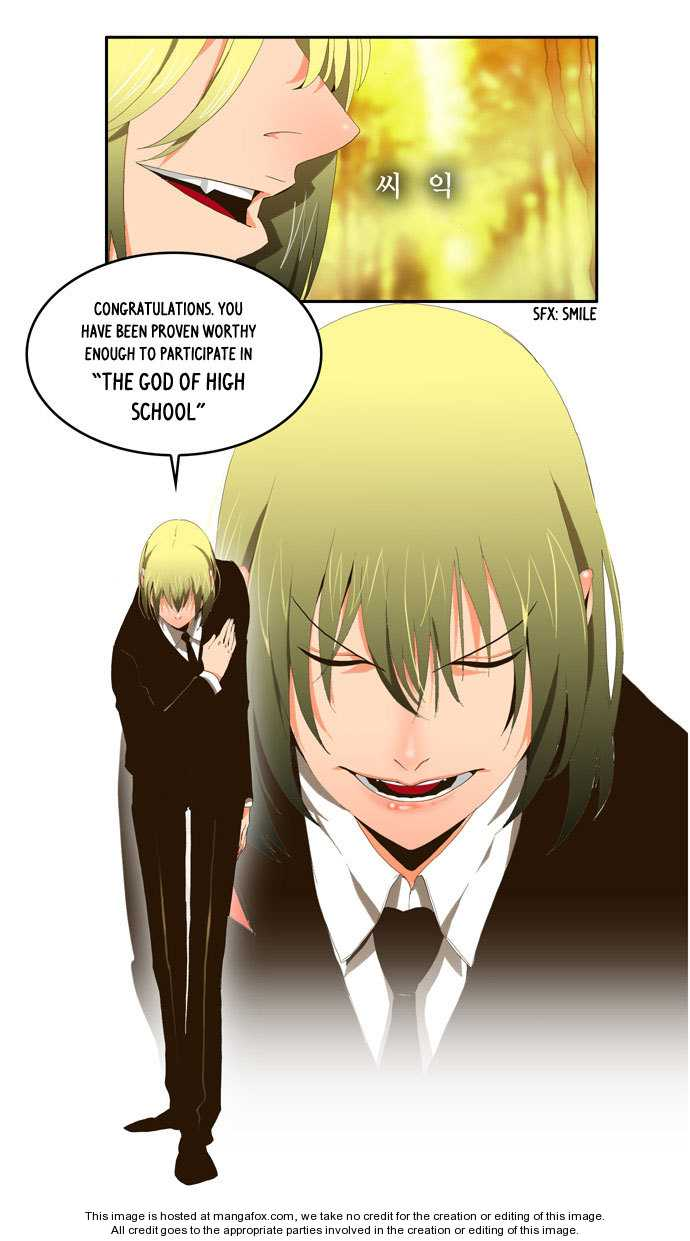bubble: (27, 251, 322, 489)
